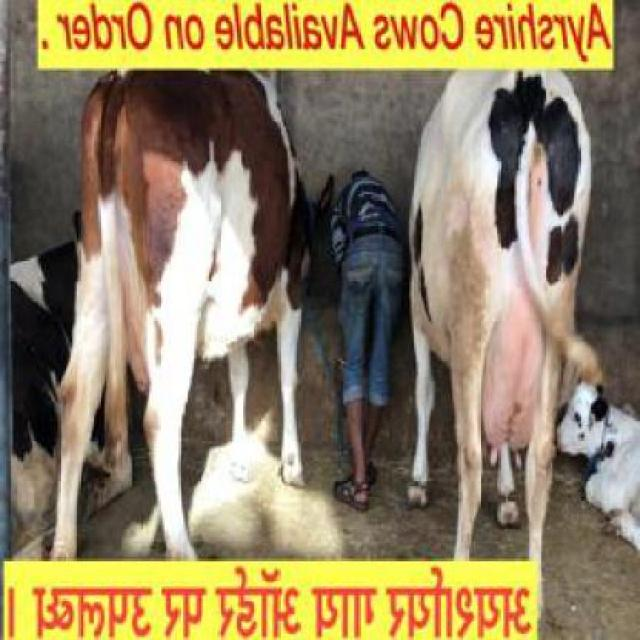Cow: (48, 65, 340, 563), (402, 66, 606, 625)
